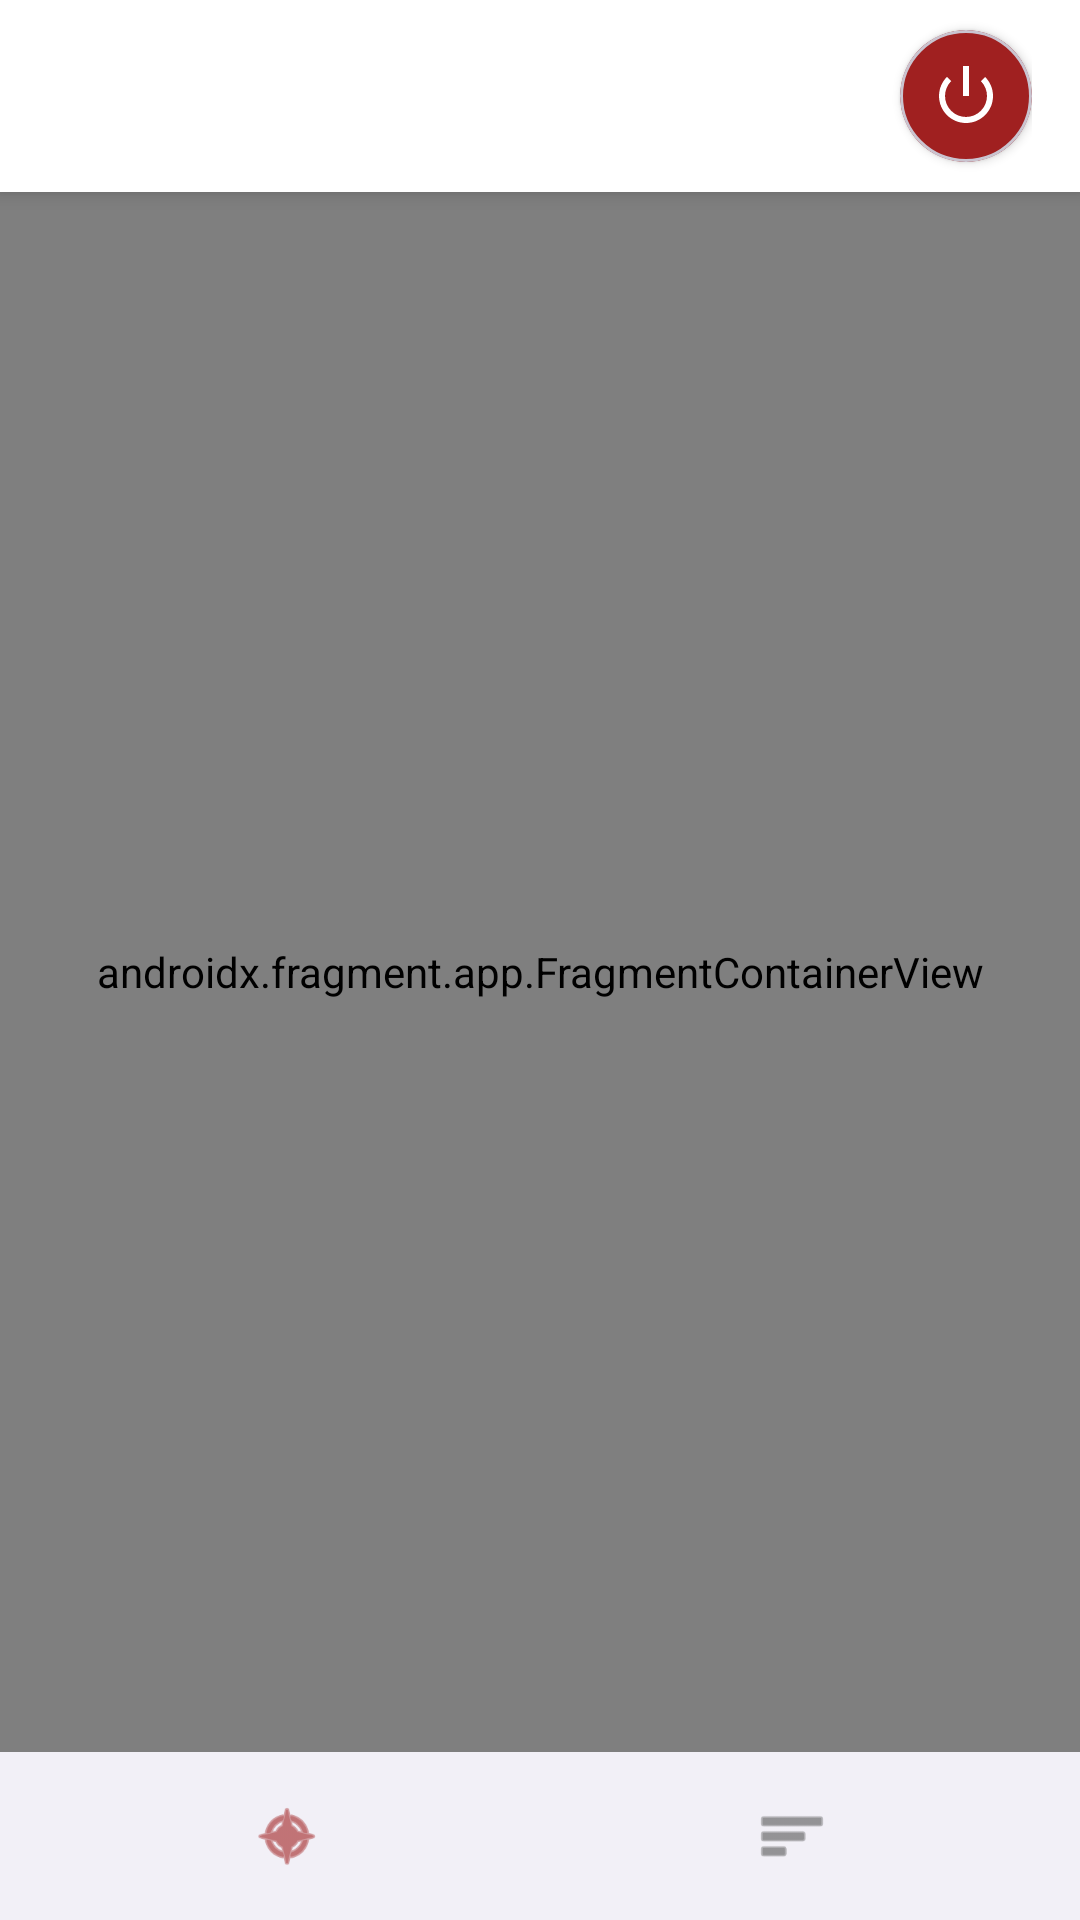

Icon bounding boxes for this 1080px×1920px phone screenshot, format (x1, y1, x2, y2):
Déconnexion: (900, 30, 1032, 162)
